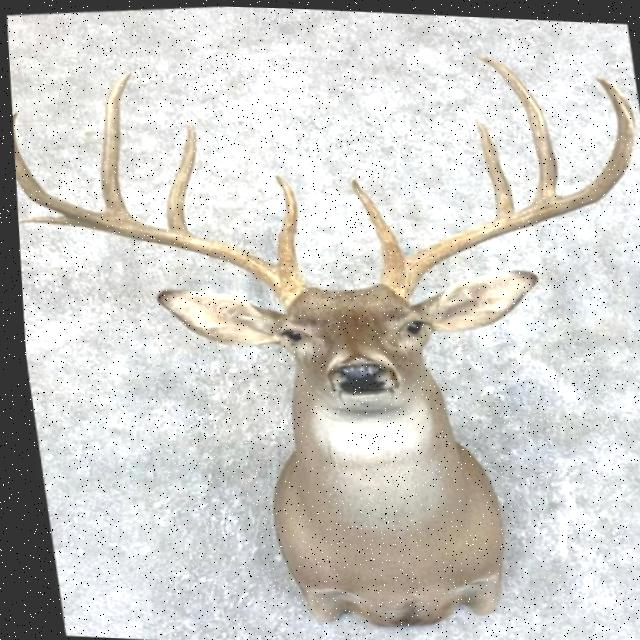E1: (14, 215, 95, 228)
L-F: (375, 72, 632, 296)
L-G1: (347, 175, 399, 265)
L-G2: (470, 115, 511, 215)
L-G3: (475, 49, 555, 196)
R-F: (10, 111, 304, 305)
R-G1: (271, 172, 295, 272)
R-G2: (162, 119, 194, 232)
R-G3: (96, 70, 129, 215)
